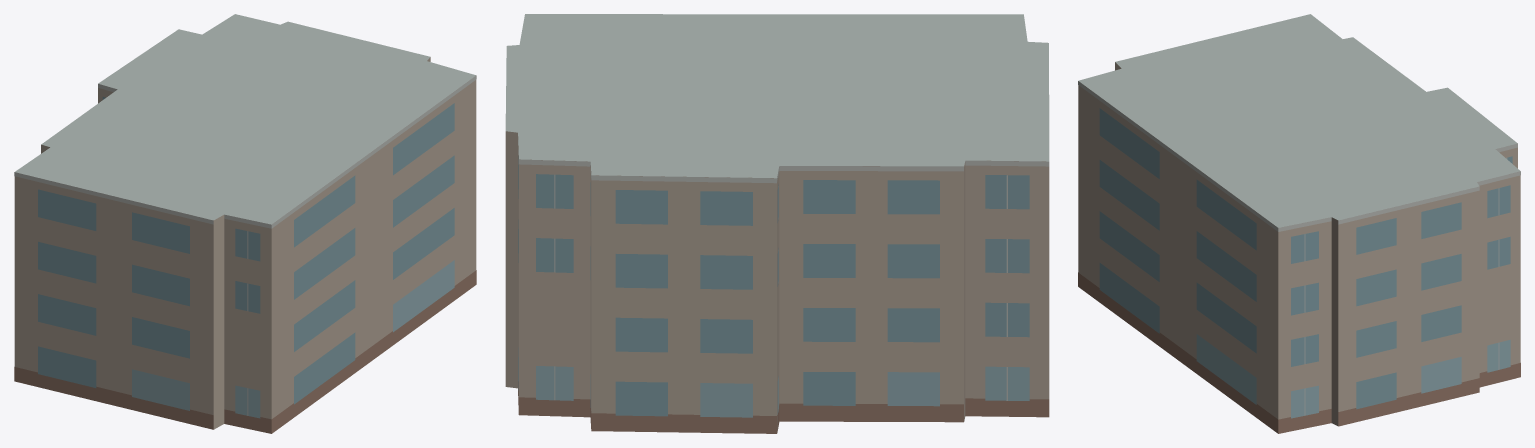
The model's file is survey-upis-32988391.glb.
3 views of the same model, side by side, from view 1: azimuth 30°, elevation 25°; view 2: azimuth 150°, elevation 25°; view 3: azimuth 270°, elevation 25° (orthographic). The views are drawn at different scales.
Visible parts, largest first — view 1: survey-upis-32988391.tmp; view 2: survey-upis-32988391.tmp; view 3: survey-upis-32988391.tmp.
Boxes of the visible parts, box(x1,y1,x2,y2) form: survey-upis-32988391.tmp: box(14, 14, 476, 433); survey-upis-32988391.tmp: box(505, 14, 1049, 433); survey-upis-32988391.tmp: box(1078, 14, 1520, 433).
Bounding box in the file's own units: 27.63 × 12.4 × 24.16.
